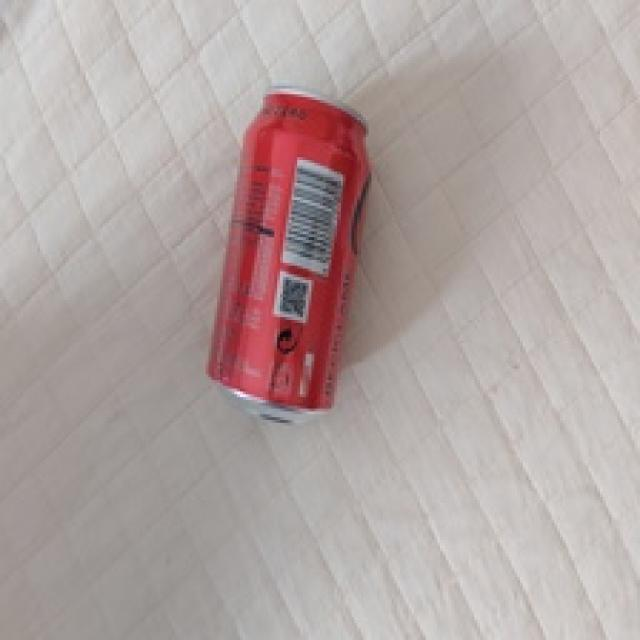recyclable: (209, 80, 370, 422)
